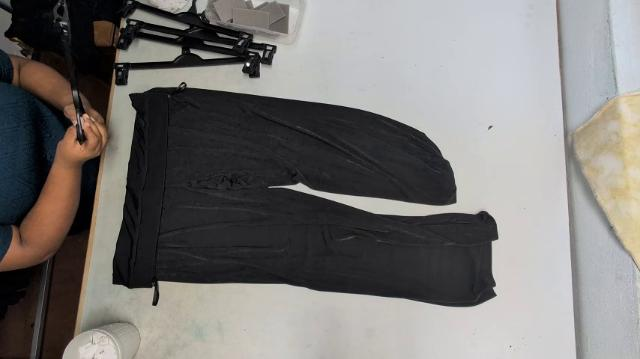new-garment: (113, 85, 498, 307)
